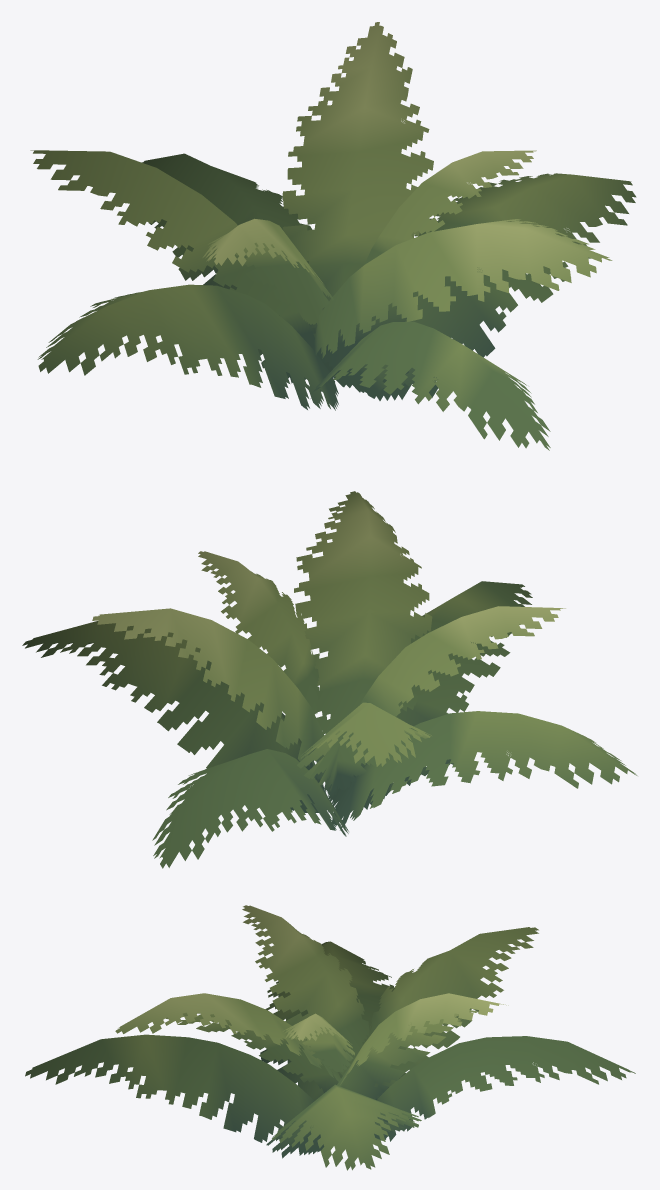
The model's file is fern-sheltered-fronds.glb.
The picture shows the model from 3 angles, top to bottom: view 1: azimuth 30°, elevation 25°; view 2: azimuth 150°, elevation 25°; view 3: azimuth 270°, elevation 25°; orthographic projection. The views are drawn at different scales.
Parts seen in each view (by area): view 1: fern-sheltered-fronds runtime mesh; view 2: fern-sheltered-fronds runtime mesh; view 3: fern-sheltered-fronds runtime mesh.
Part boxes in pixels (<box>): fern-sheltered-fronds runtime mesh: <box>30,22,636,450</box>; fern-sheltered-fronds runtime mesh: <box>22,491,637,868</box>; fern-sheltered-fronds runtime mesh: <box>25,905,635,1170</box>.
Bounding box in the file's own units: 1.49 × 0.598 × 1.64.
1 material, 1 textured.
